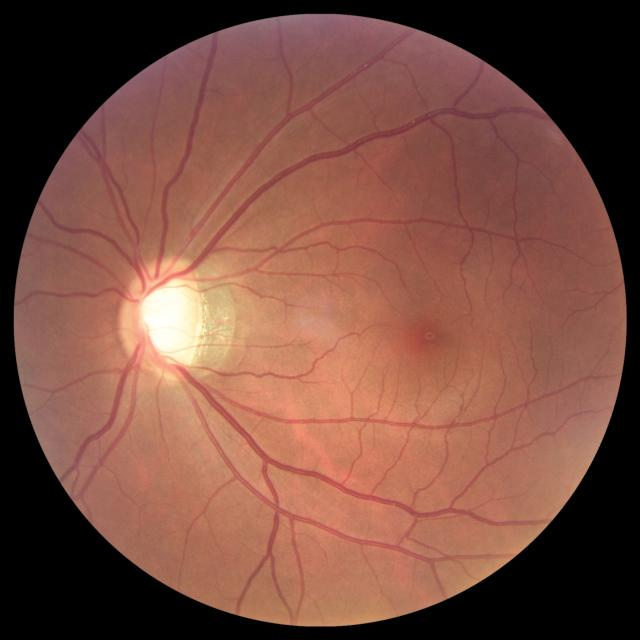OC: (139, 279, 200, 354)
OD: (119, 258, 203, 373)
